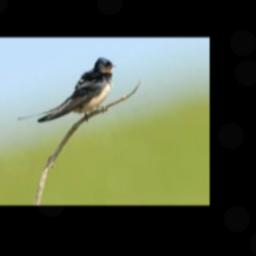Swallow: (17, 57, 115, 123)
